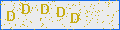D: (70, 13, 79, 23), (57, 7, 65, 17), (41, 4, 49, 14), (22, 4, 30, 14), (7, 11, 15, 21)
